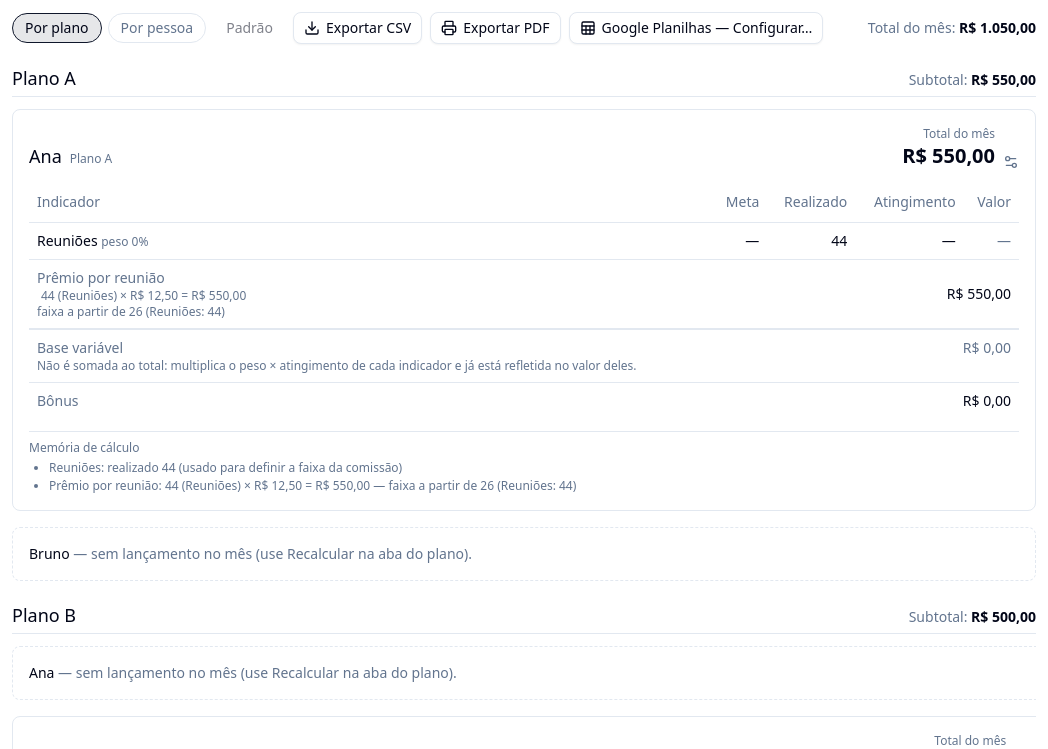
Scenario: CompOverview › toggle por pessoa reagrupa (seções por responsável)
Click the button "Por pessoa".
click(157, 28)  # box [108,13,206,43]
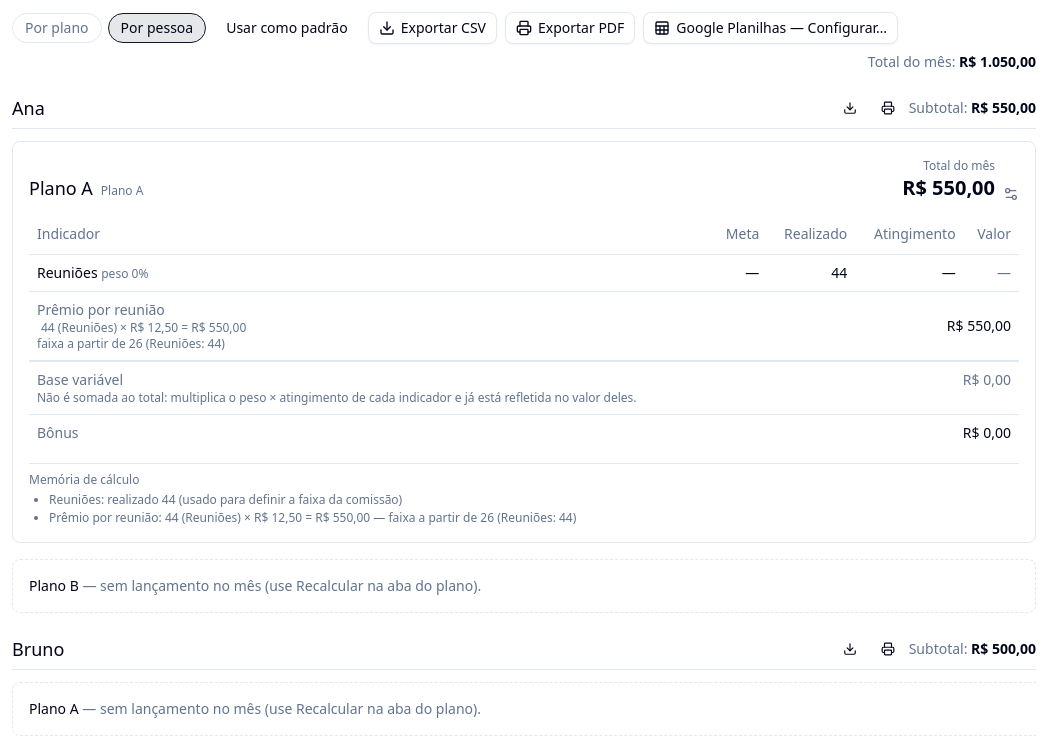
Result: the heading "Ana" is shown at [12,94,45,122]
